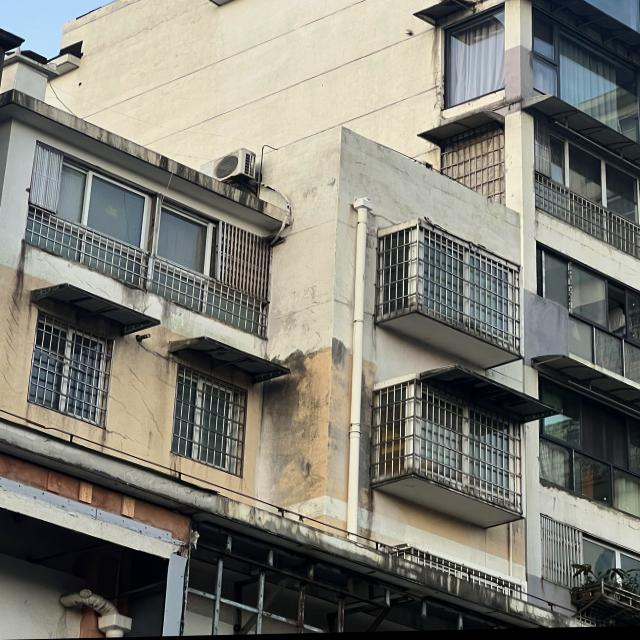damp: (18, 92, 259, 211)
mildew: (277, 342, 333, 501)
